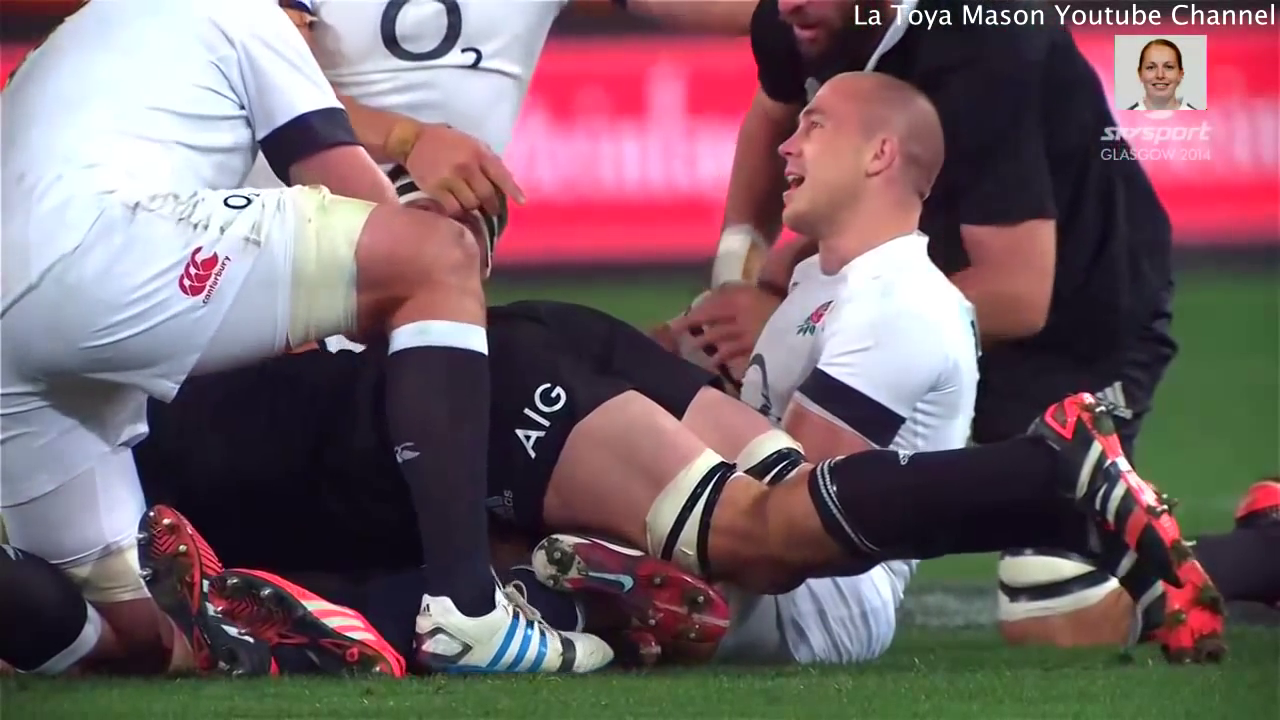player: (1, 12, 627, 676), (489, 294, 1222, 655), (748, 6, 1254, 434), (725, 76, 985, 686)
ruck: (1, 36, 1234, 666)
